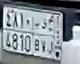0: (24, 16, 32, 54)
1: (19, 11, 24, 50)
4: (6, 11, 12, 49)
8: (11, 11, 19, 51)
B: (34, 17, 40, 53)
V: (42, 19, 48, 53)
